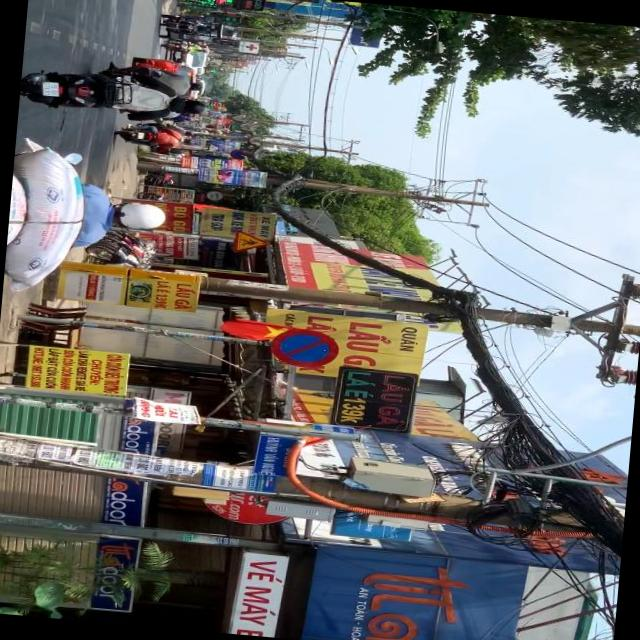P-131a: (270, 328, 341, 372)
W-224: (231, 230, 269, 252)
